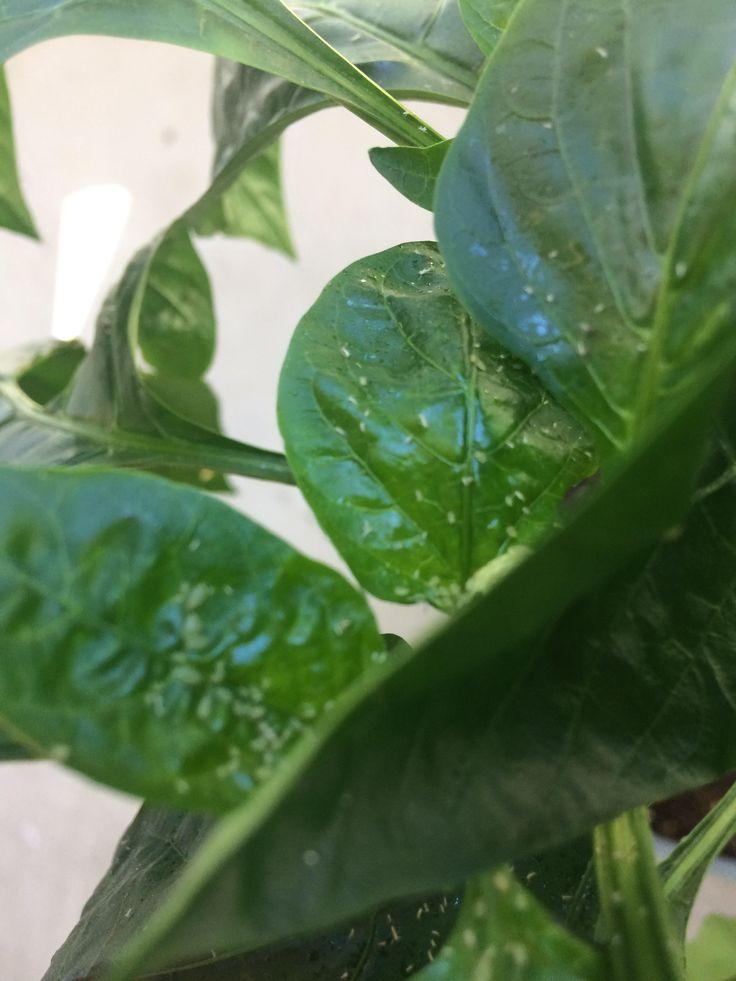Bell_pepper leaf spot: (1, 465, 388, 838), (430, 2, 736, 441), (281, 232, 597, 620)
